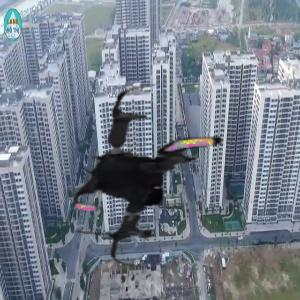drone: (55, 80, 253, 278)
